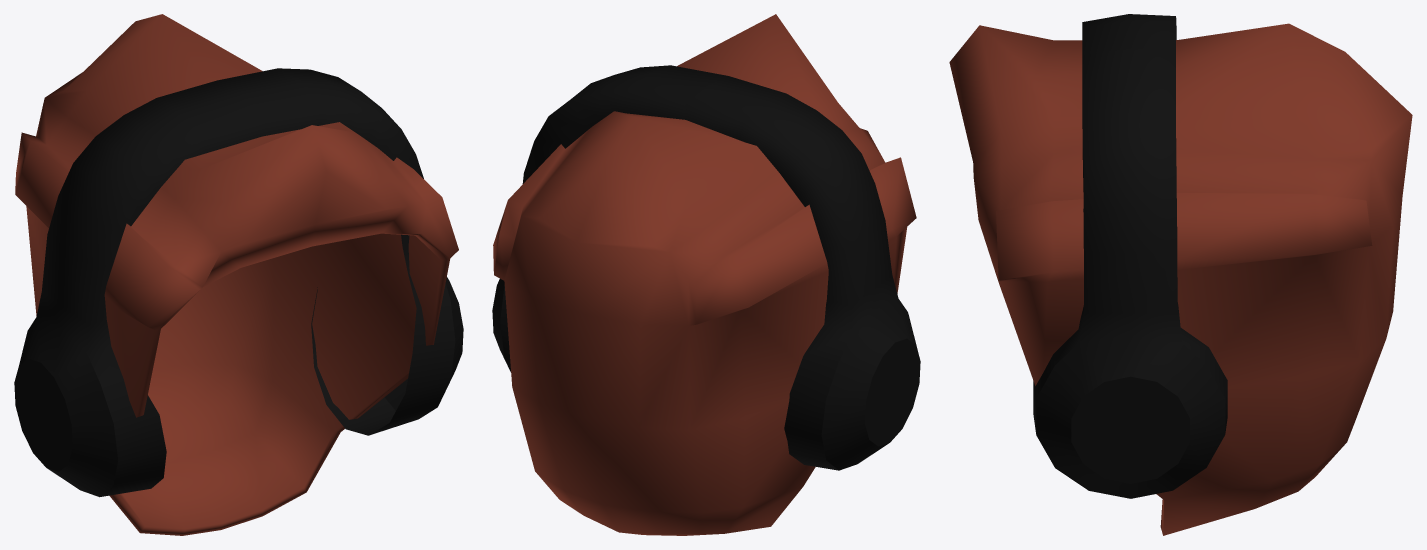
File: headphones.glb
3 renders of one model, left to right at view 1: azimuth 30°, elevation 25°; view 2: azimuth 150°, elevation 25°; view 3: azimuth 270°, elevation 25°, orthographic. The views are drawn at different scales.
Parts seen in each view (by area): view 1: headphones.001; view 2: headphones.001; view 3: headphones.001.
Part boxes in pixels (<box>): headphones.001: <box>14,14,463,535</box>; headphones.001: <box>492,14,920,535</box>; headphones.001: <box>949,14,1412,535</box>.
Size of the model in its own units: 3.29 by 3.75 by 3.22.
